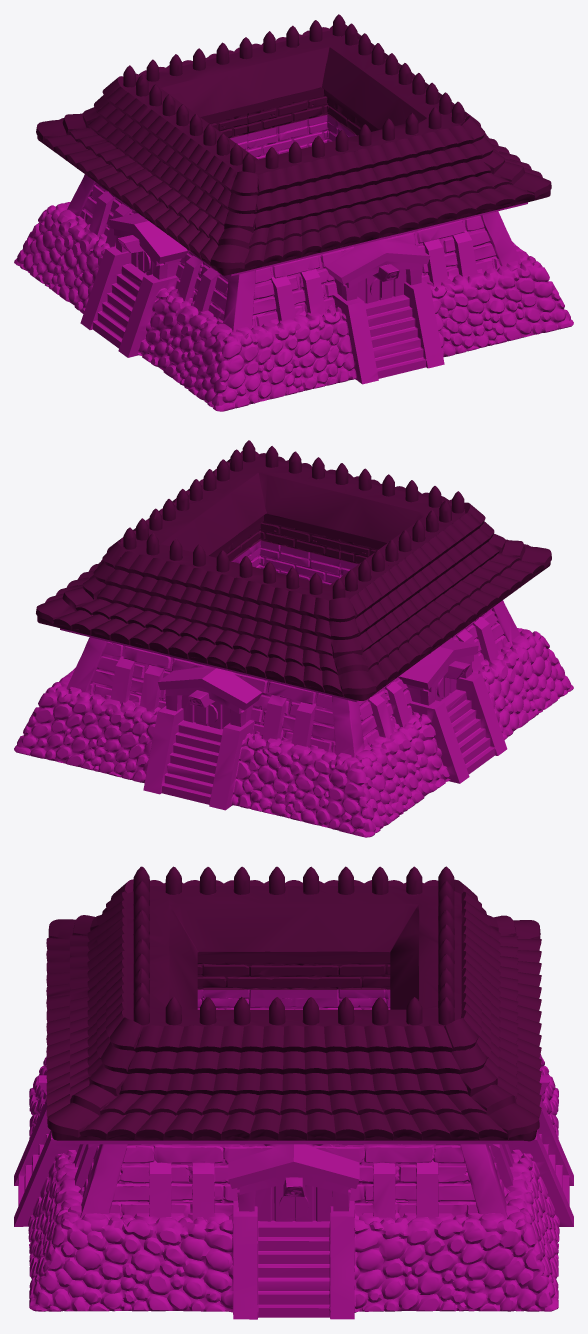
File: Garrison_Bottom.obj
3 renders of one model, top to bottom at view 1: azimuth 30°, elevation 25°; view 2: azimuth 150°, elevation 25°; view 3: azimuth 270°, elevation 25°, orthographic. The views are drawn at different scales.
Visible parts, largest first — view 1: GarrisonBottom_Decimate_1, GarrisonBottom_Decimate_0; view 2: GarrisonBottom_Decimate_1, GarrisonBottom_Decimate_0; view 3: GarrisonBottom_Decimate_1, GarrisonBottom_Decimate_0.
Part boxes in pixels (x1,y1,x2,y2): GarrisonBottom_Decimate_1: (36, 14, 551, 275); GarrisonBottom_Decimate_0: (14, 115, 573, 411); GarrisonBottom_Decimate_1: (36, 440, 551, 700); GarrisonBottom_Decimate_0: (14, 540, 573, 837); GarrisonBottom_Decimate_1: (46, 866, 541, 1141); GarrisonBottom_Decimate_0: (14, 989, 573, 1319).
Size of the model in its own units: 2.3 by 1.22 by 2.3.
